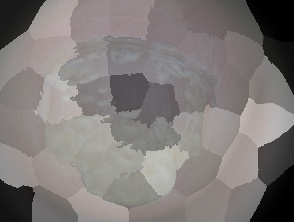Nail_psoriasis: (8, 6, 237, 222)
